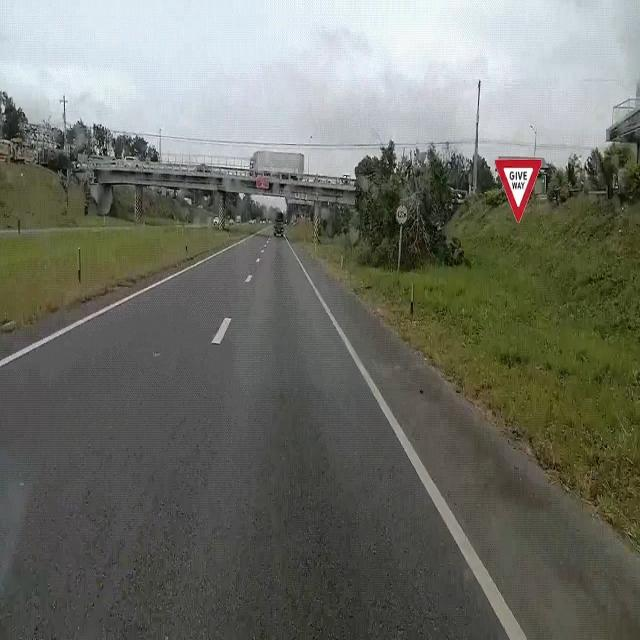Ceder-le-Passage: (491, 146, 551, 228)
